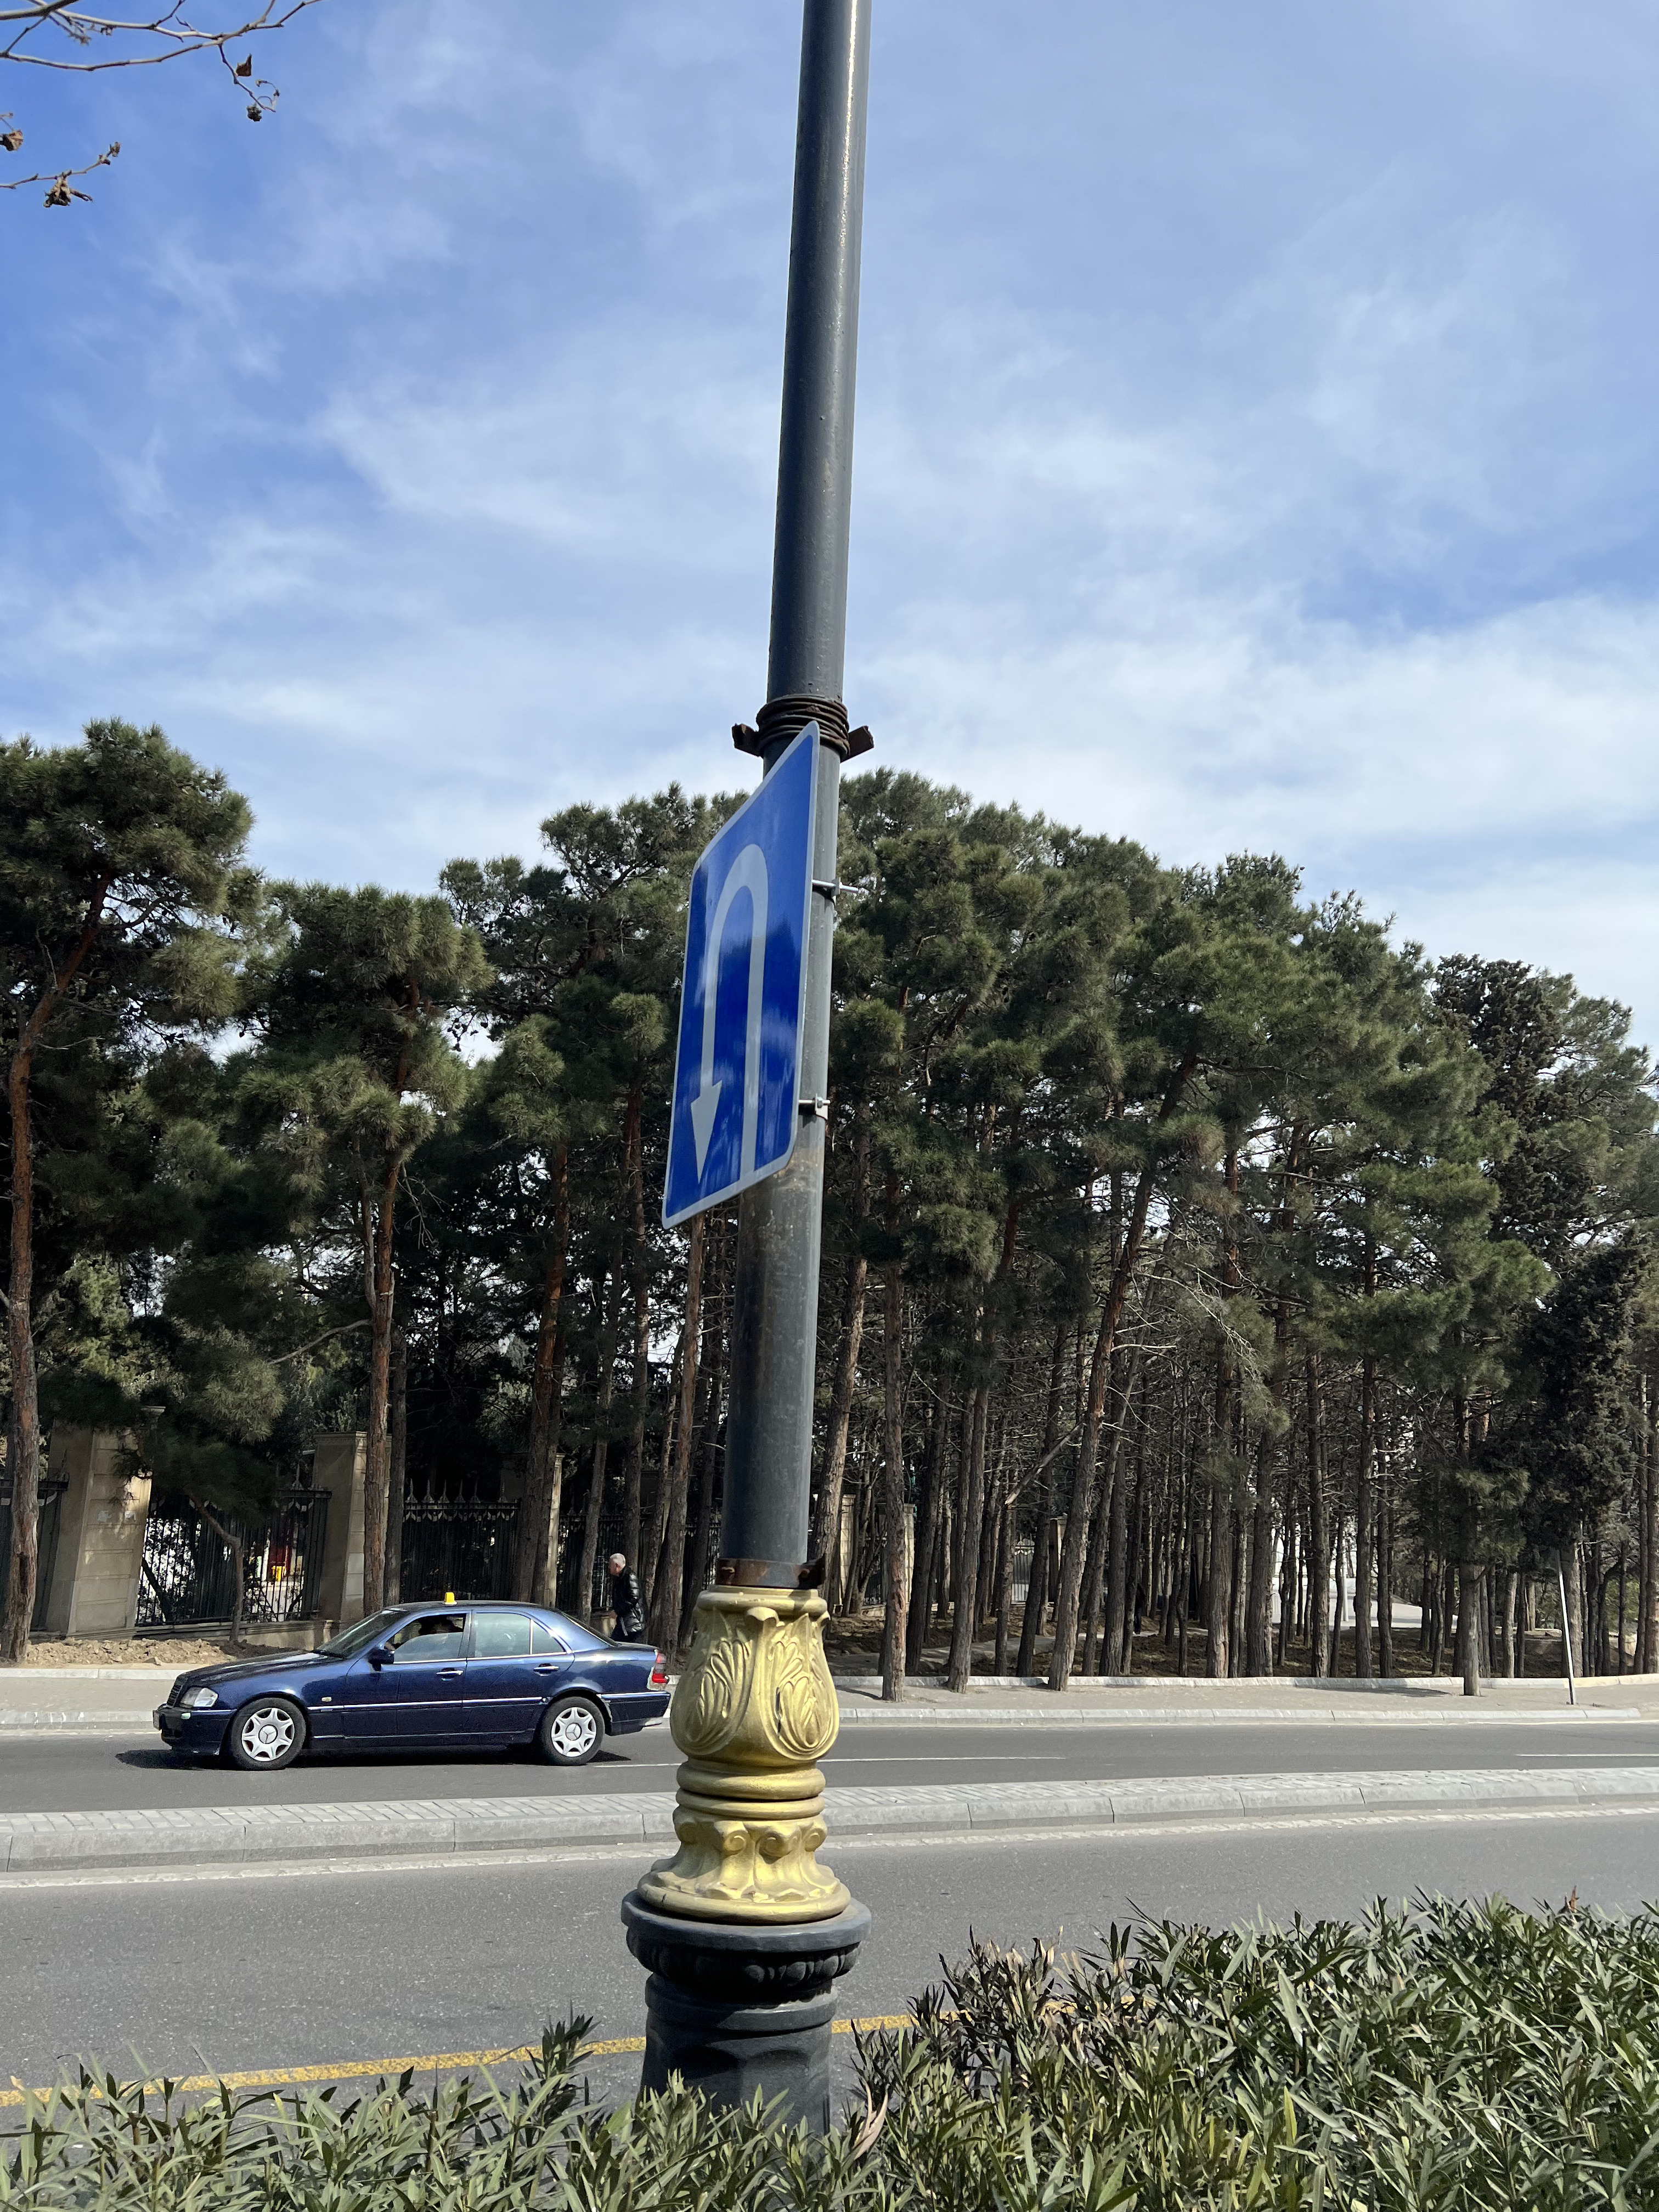U-turn: (660, 719, 819, 1233)
